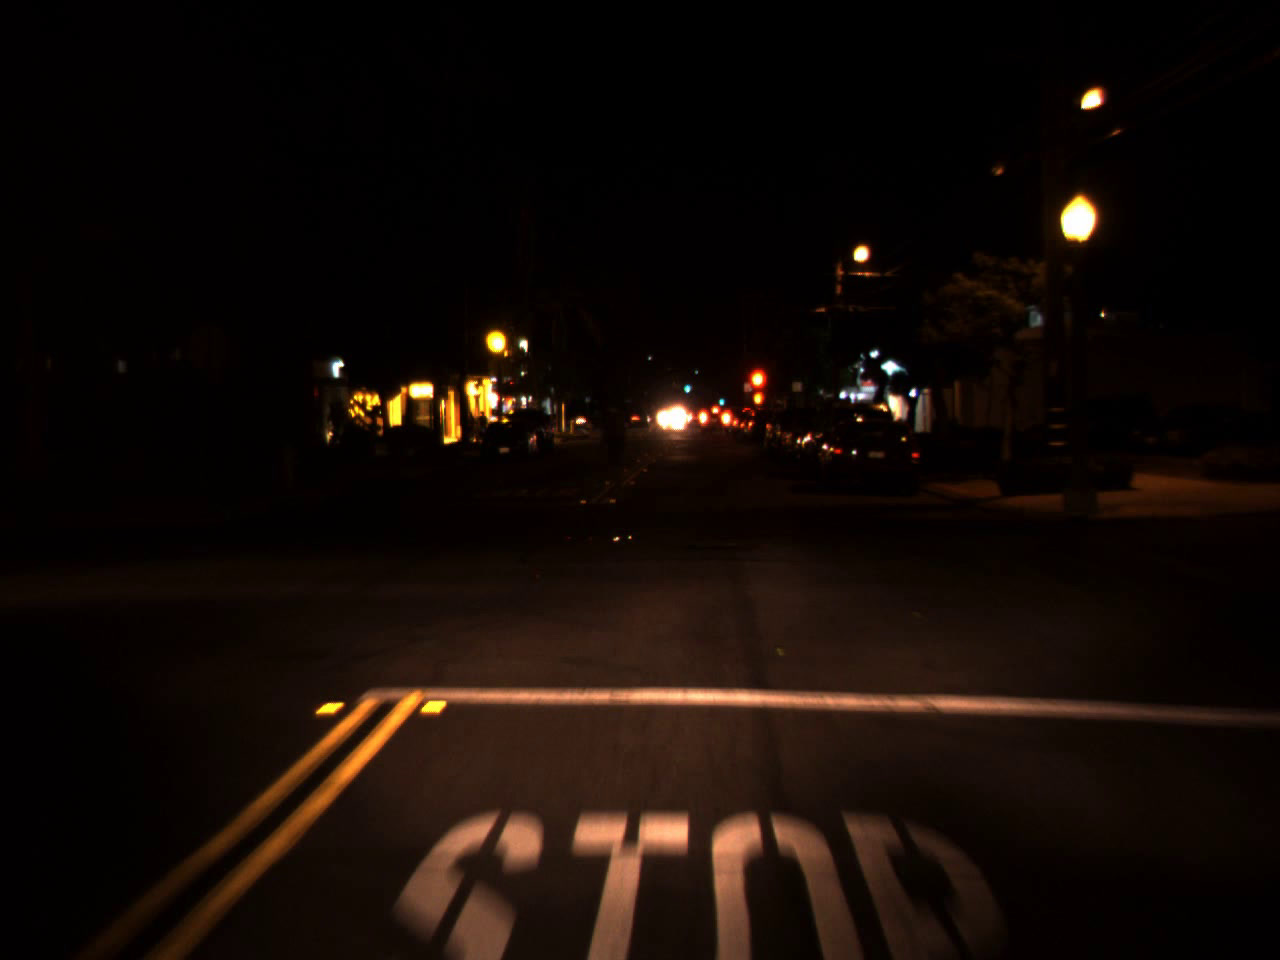go: (682, 377, 691, 395), (718, 394, 725, 406)
stop: (746, 365, 770, 413)
